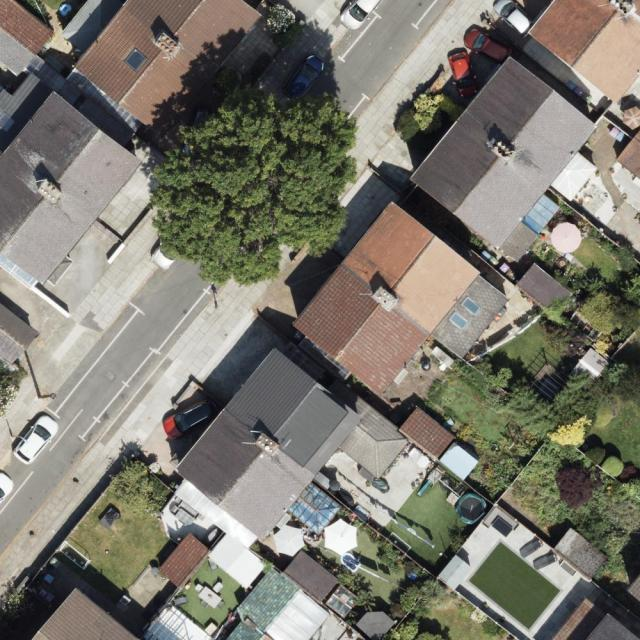roof: (173, 339, 459, 548), (288, 196, 512, 399), (406, 49, 599, 262), (0, 75, 146, 288), (77, 0, 263, 148), (521, 0, 640, 109), (225, 543, 344, 640), (22, 584, 147, 640), (0, 0, 59, 79), (544, 598, 640, 640), (159, 531, 210, 589)
skylight: (286, 479, 350, 536), (522, 194, 562, 235), (117, 45, 155, 77), (460, 293, 482, 315), (447, 312, 466, 329)
